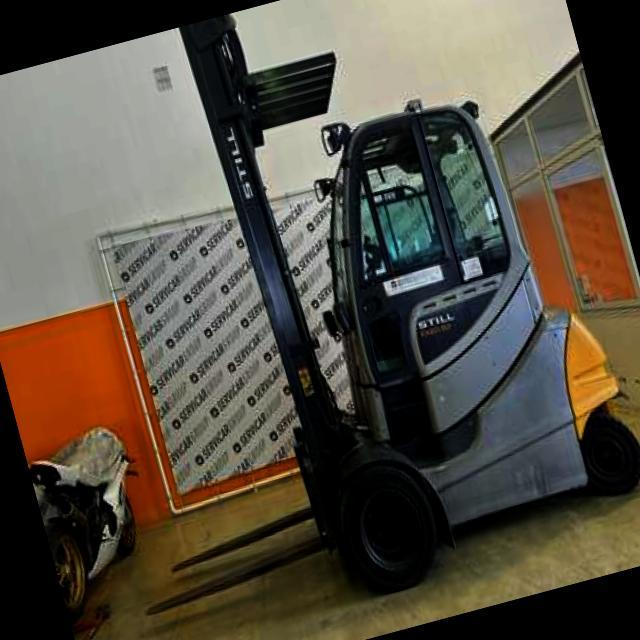forklift: (166, 42, 640, 625)
